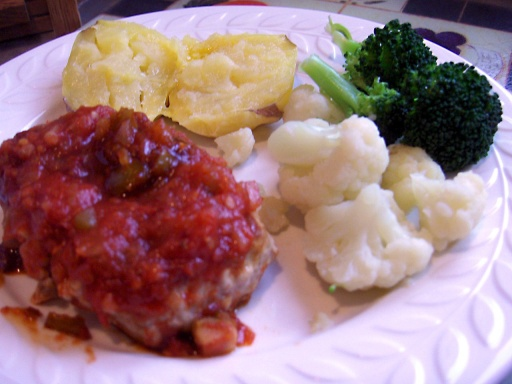background: (0, 8, 403, 209)
